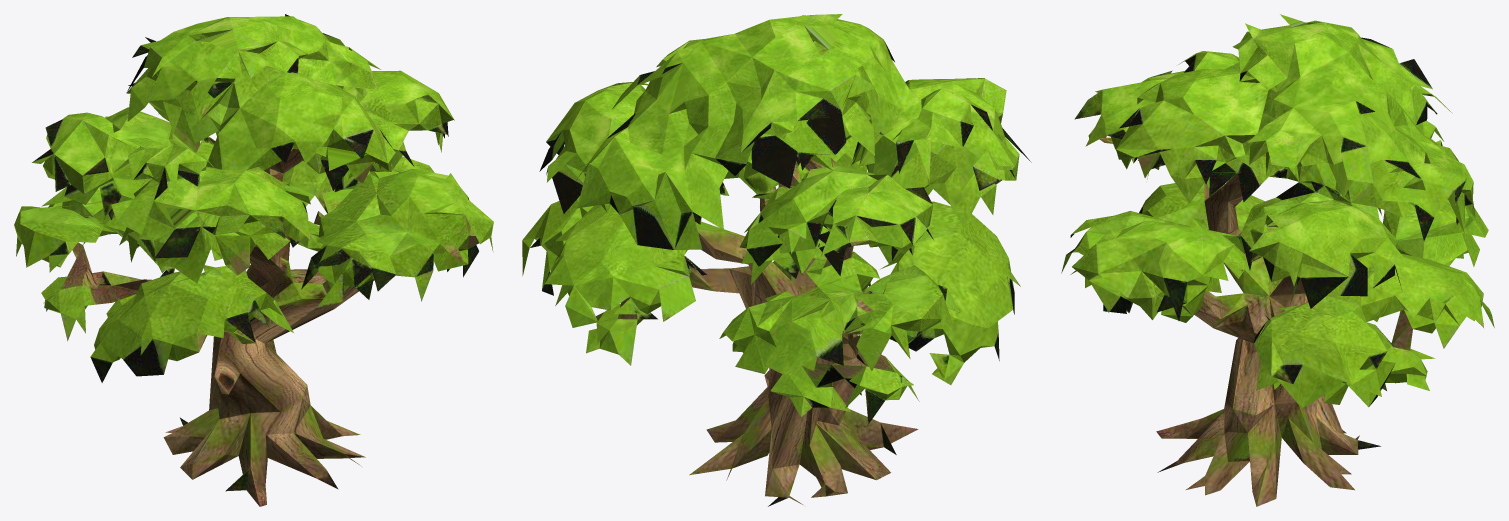
The model's file is broadleaf.glb.
The picture shows the model from 3 angles, left to right: view 1: azimuth 30°, elevation 25°; view 2: azimuth 150°, elevation 25°; view 3: azimuth 270°, elevation 25°; orthographic projection. The views are drawn at different scales.
Parts seen in each view (by area): view 1: Mesh_0; view 2: Mesh_0; view 3: Mesh_0.
Part boxes in pixels (x1,y1,x2,y2): Mesh_0: (14, 14, 493, 506); Mesh_0: (522, 14, 1031, 506); Mesh_0: (1061, 14, 1494, 506).
Bounding box in the file's own units: 1.02 × 1 × 0.9211.
Materials: 1 (1 with a texture image).
